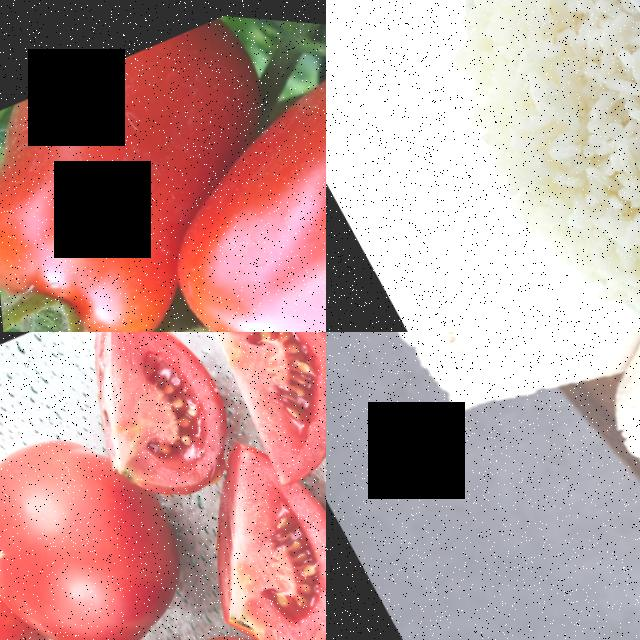tofu: (326, 332, 640, 454), (534, 332, 640, 523)
tomato: (91, 3, 326, 332), (0, 400, 201, 640), (32, 332, 263, 518), (143, 419, 326, 640), (174, 332, 326, 488), (237, 489, 326, 640)
white rice: (408, 0, 640, 332)
